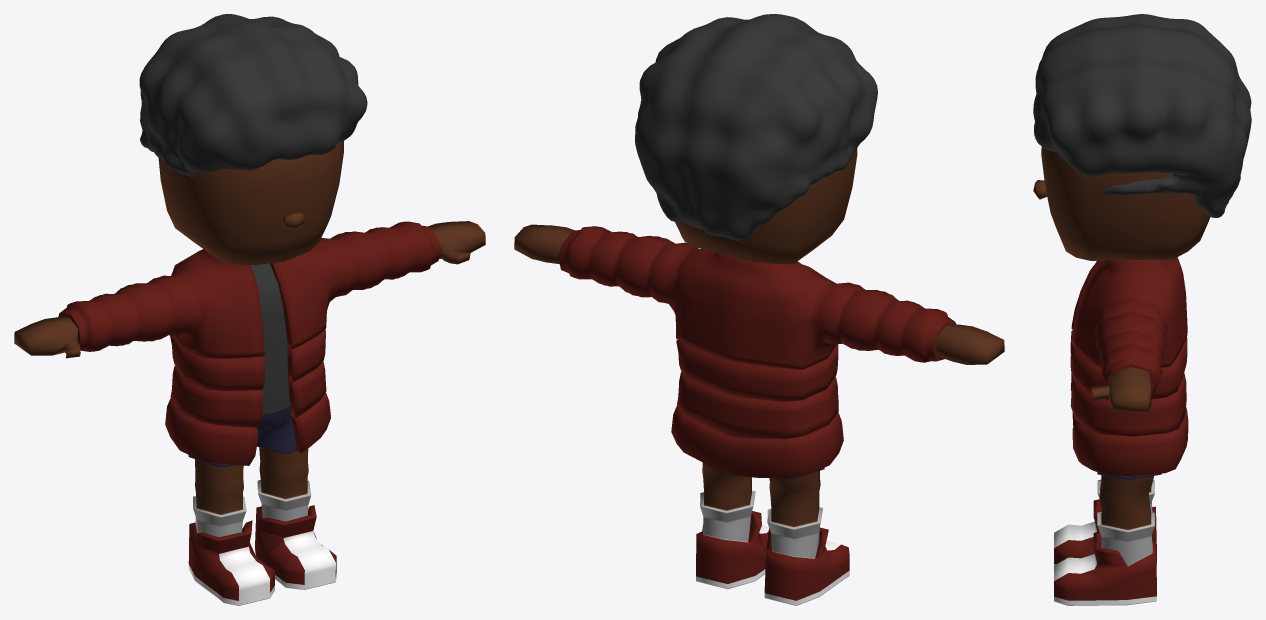
Rendered from player-v5-join.fbx.
3 renders of one model, left to right at view 1: azimuth 30°, elevation 25°; view 2: azimuth 150°, elevation 25°; view 3: azimuth 270°, elevation 25°, orthographic. The views are drawn at different scales.
Visible parts, largest first — view 1: Retopo_Mball.001; view 2: Retopo_Mball.001; view 3: Retopo_Mball.001.
Boxes of the visible parts, x1=… form: Retopo_Mball.001: x1=14, y1=14, x2=485, y2=605; Retopo_Mball.001: x1=514, y1=14, x2=1004, y2=605; Retopo_Mball.001: x1=1033, y1=14, x2=1251, y2=605.
Size of the model in its own units: 369 by 413 by 148.
